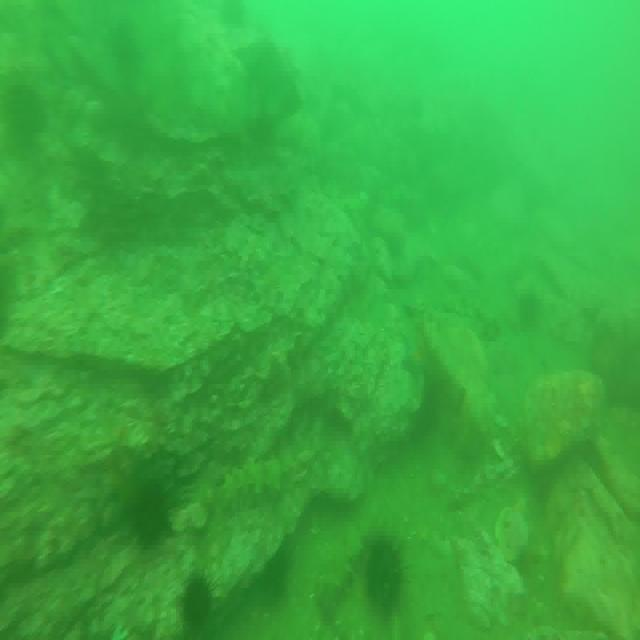echinus: (365, 540, 406, 612), (135, 481, 170, 542), (183, 571, 215, 629), (261, 543, 290, 601)
